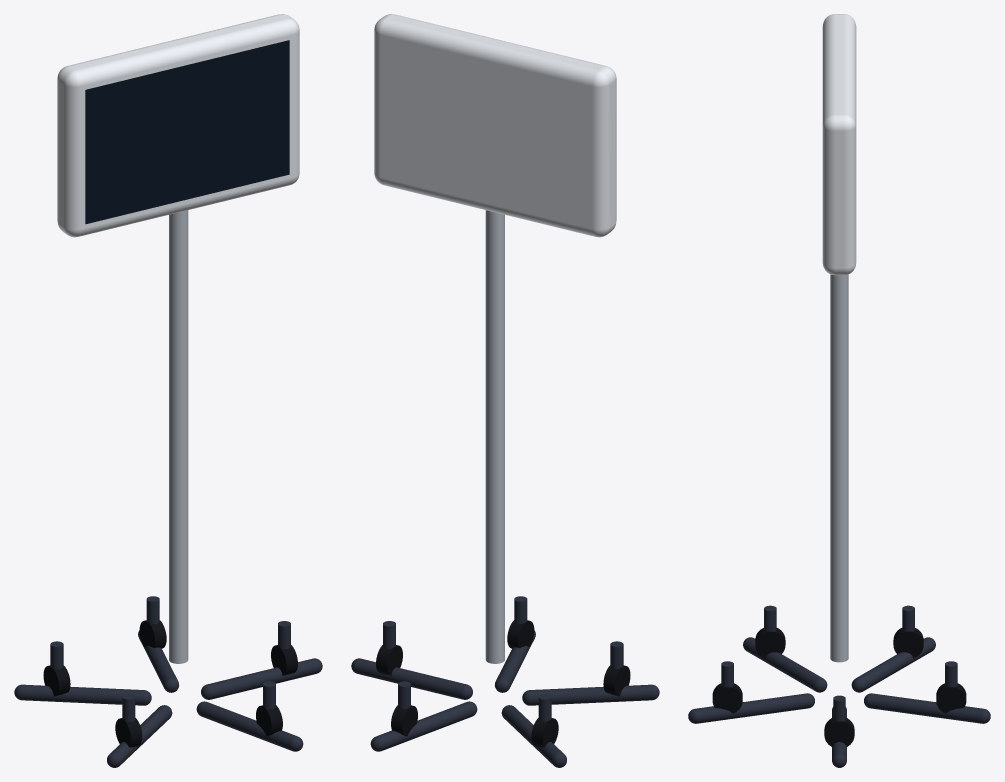
Rendered from medical-monitor.glb.
The picture shows the model from 3 angles, left to right: view 1: azimuth 30°, elevation 25°; view 2: azimuth 150°, elevation 25°; view 3: azimuth 270°, elevation 25°; orthographic projection. The views are drawn at different scales.
Visible parts, largest first — view 1: medical-monitor, screen, wheel (×5); view 2: medical-monitor, wheel (×5); view 3: medical-monitor, wheel (×5).
Part boxes in pixels (x1,y1,x2,y2): medical-monitor: [14, 14, 322, 767]; screen: [85, 40, 289, 224]; wheel (×5): [43, 596, 297, 747]; medical-monitor: [351, 14, 659, 767]; wheel (×5): [376, 596, 630, 747]; medical-monitor: [688, 14, 990, 767]; wheel (×5): [712, 605, 966, 746].
Bounding box in the file's own units: 0.688 × 1.68 × 0.7207.
